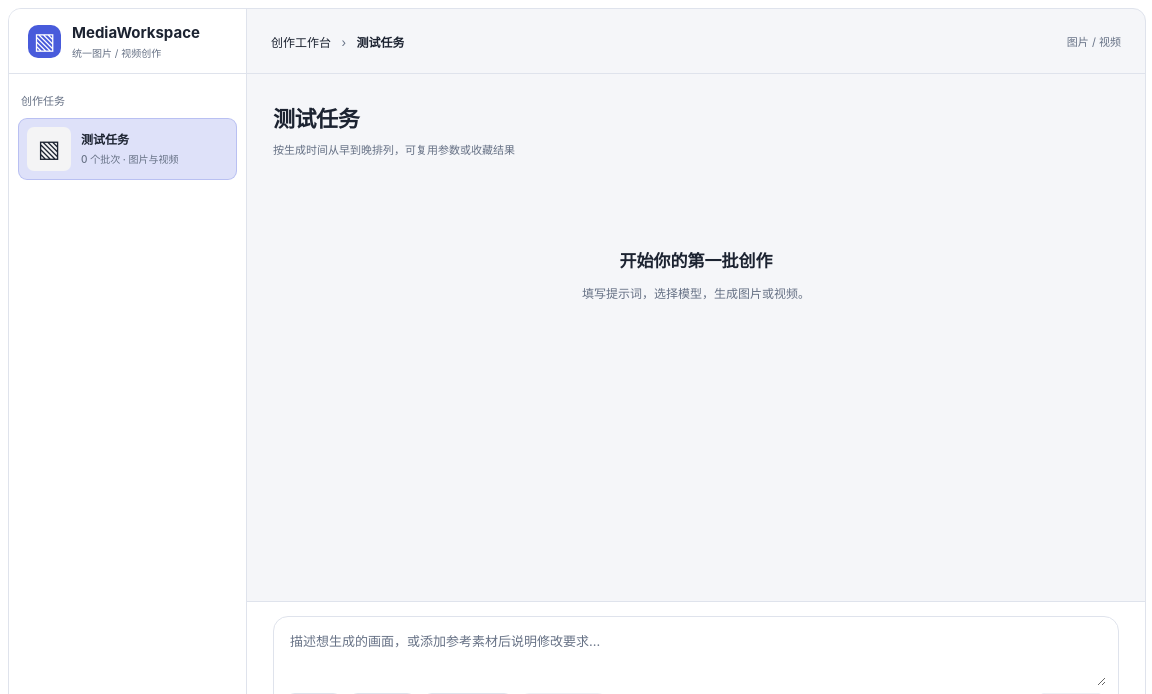
Test case: MediaWorkspace › 优化发送当前模型和参数，失败保持原文，成功回填
The image size is (1152, 694).
In the text box named "生成提示词": (696, 657) [286, 628, 1106, 686], type "生成测试画面"
(page scrolled)
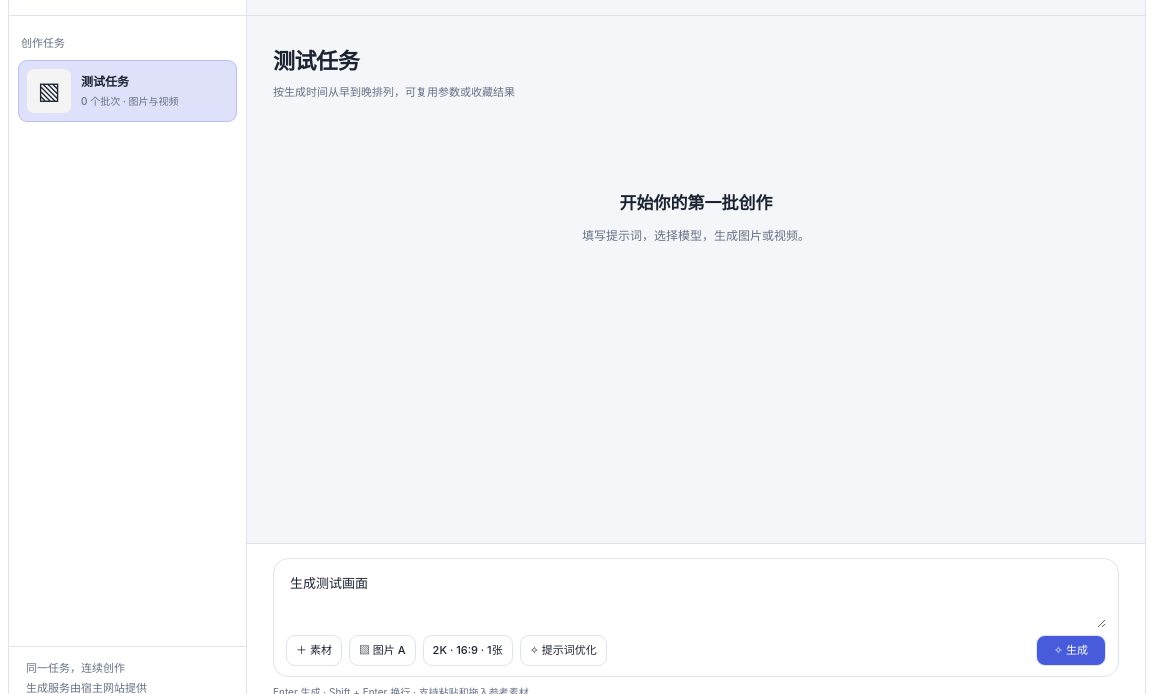
Click the button "✧ 提示词优化": (563, 650) [520, 635, 607, 666]
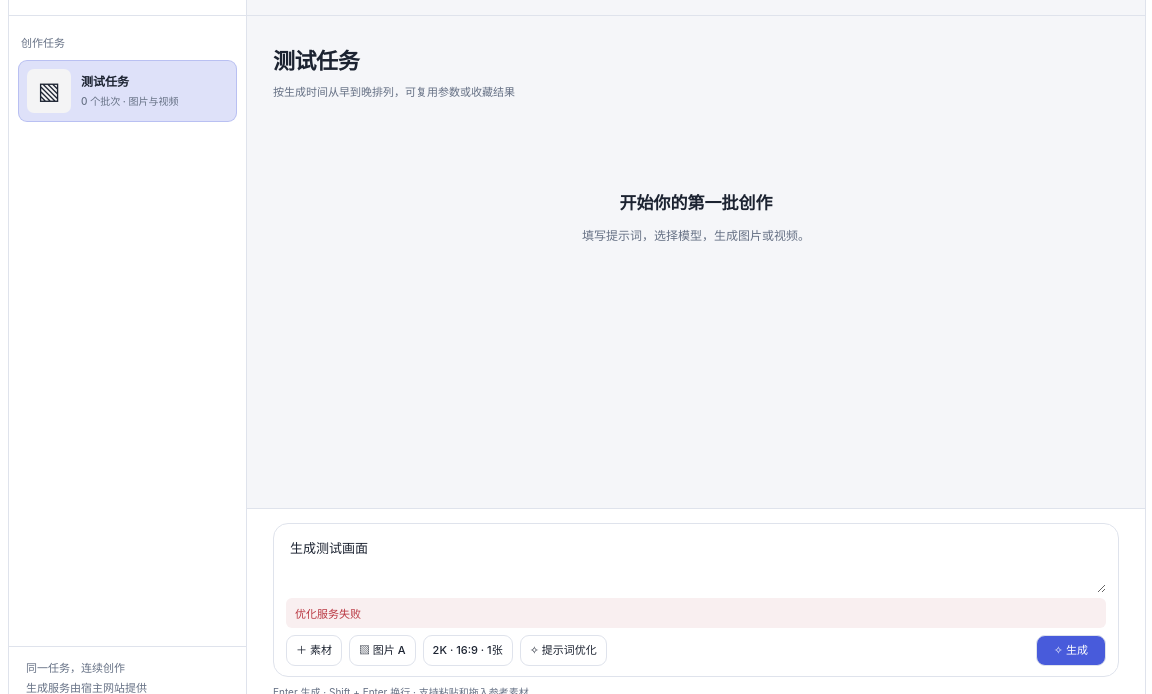
Expected: the message reads "优化服务失败", [295, 607, 361, 621]
Click the button "✧ 提示词优化": (563, 650) [520, 635, 607, 666]
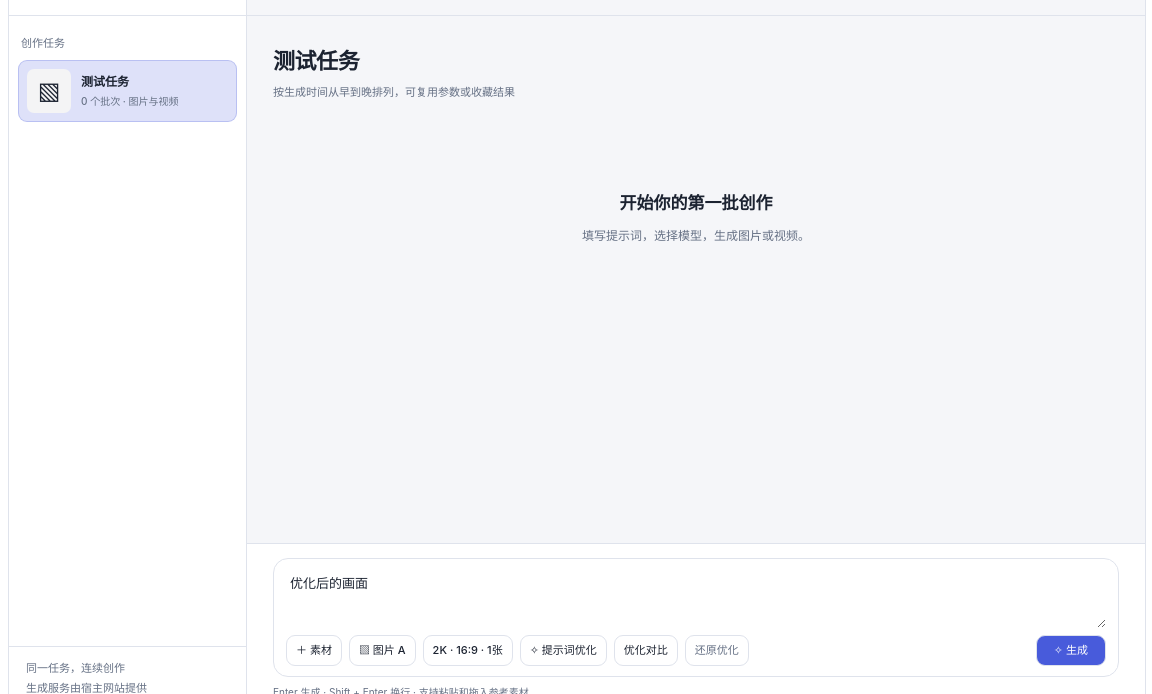
Expected: the text box named "生成提示词" holds "优化后的画面", [286, 570, 1106, 628]
